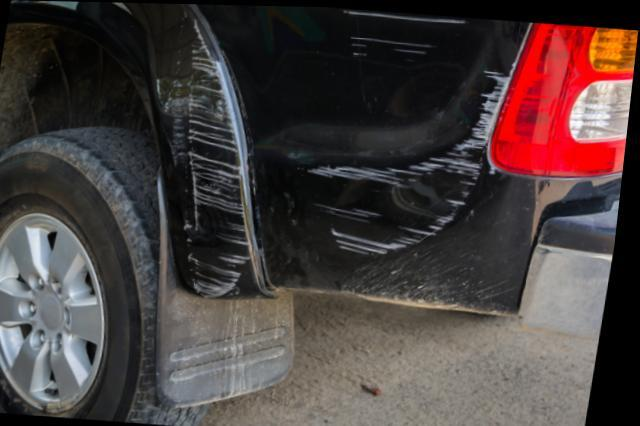scratch: (307, 63, 517, 254), (158, 21, 259, 300), (335, 6, 465, 81)
